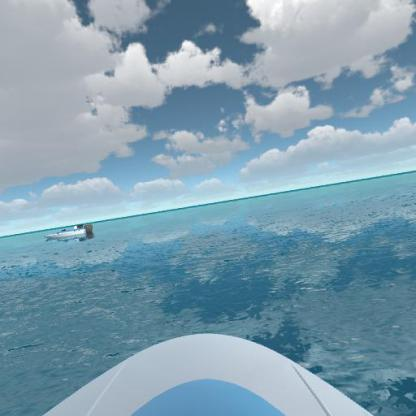usv1: (40, 220, 99, 246)
